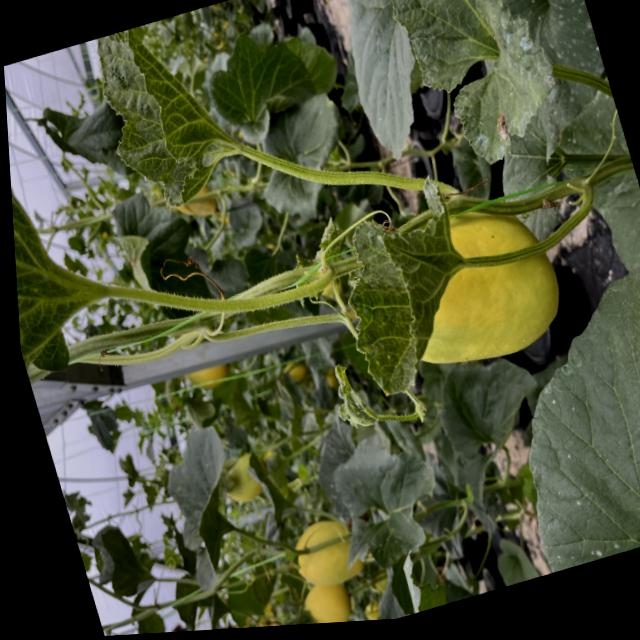CMV: (371, 0, 572, 179), (81, 13, 232, 235), (6, 90, 105, 422)
SLCV: (300, 179, 513, 421)
downy mildew: (468, 256, 640, 577)
